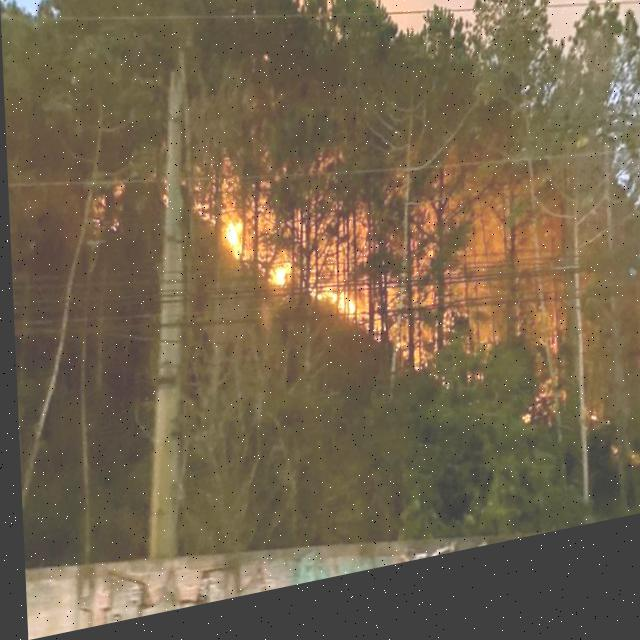Fire: (324, 297, 354, 336), (220, 220, 240, 274), (266, 274, 288, 302)
